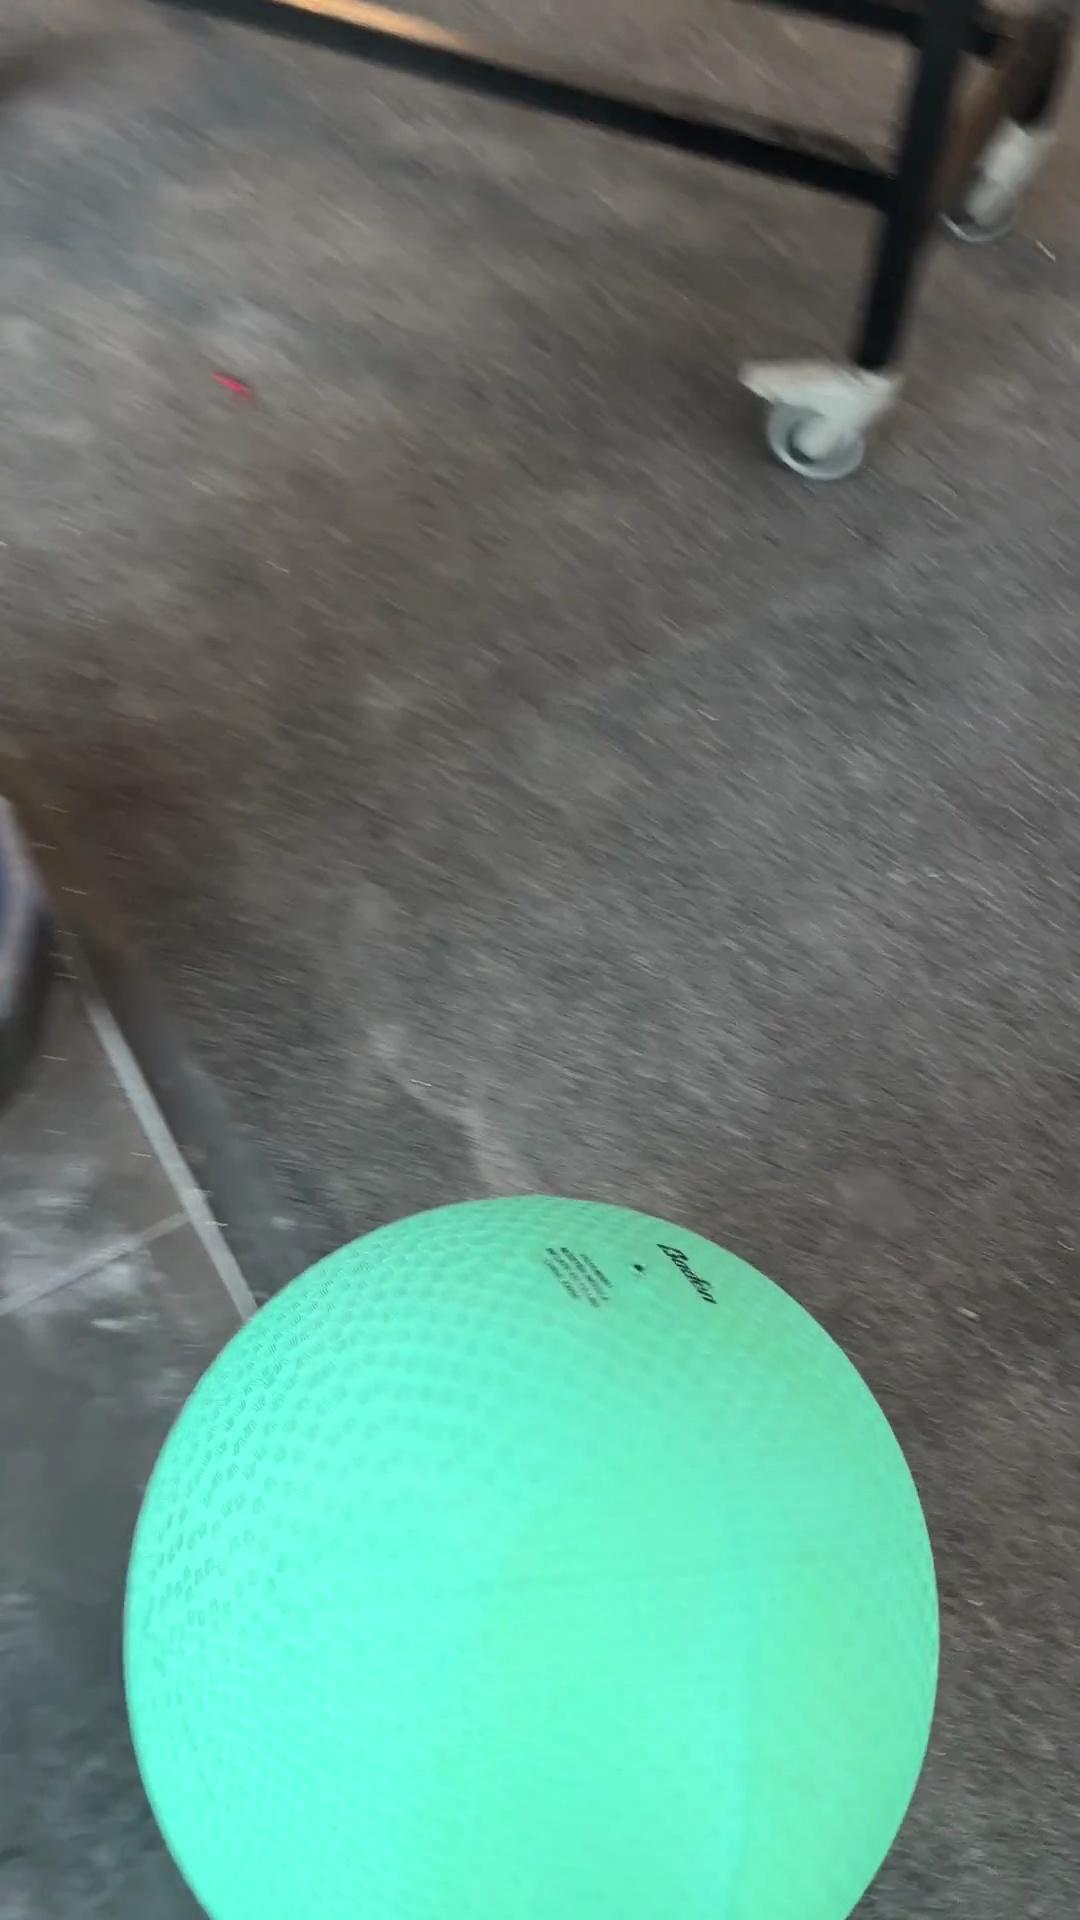ALGAE: (119, 1190, 942, 1916)
